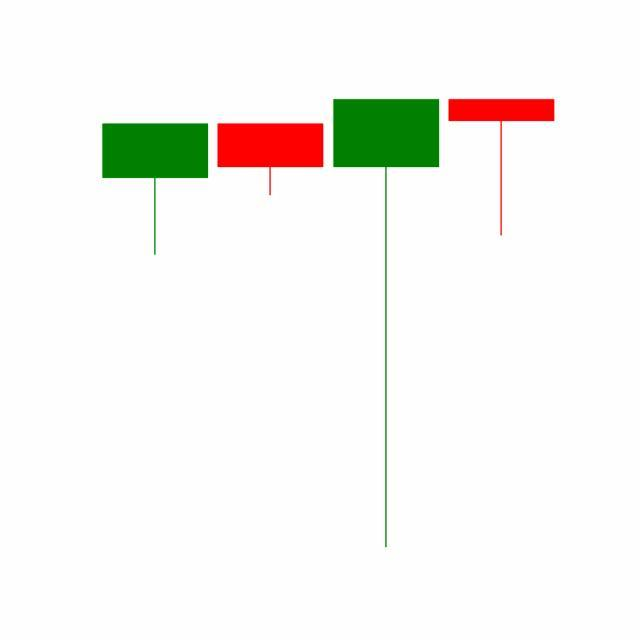Hanging Man: (444, 98, 560, 238)
